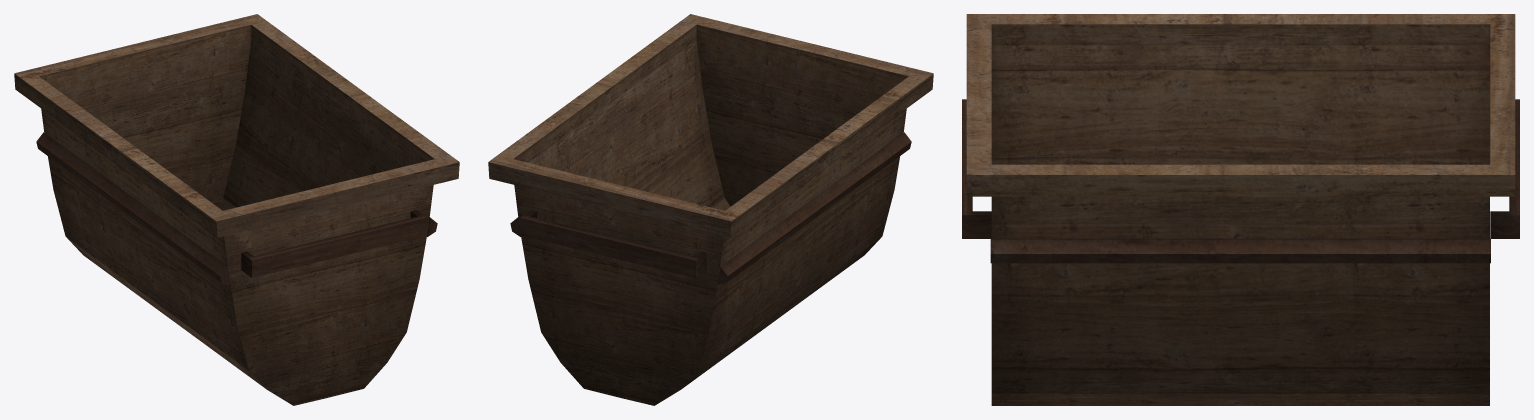
Rendered from cart_wooden.dae.
The picture shows the model from 3 angles, left to right: view 1: azimuth 30°, elevation 25°; view 2: azimuth 150°, elevation 25°; view 3: azimuth 270°, elevation 25°; orthographic projection. The views are drawn at different scales.
Parts seen in each view (by area): view 1: CartWooden; view 2: CartWooden; view 3: CartWooden.
Part boxes in pixels (left/top/right/bottom): CartWooden: left=14, top=14, right=459, bottom=405; CartWooden: left=488, top=14, right=933, bottom=405; CartWooden: left=962, top=14, right=1519, bottom=405.
Size of the model in its own units: 2.68 by 3.92 by 2.24.
1 material, 1 textured.
